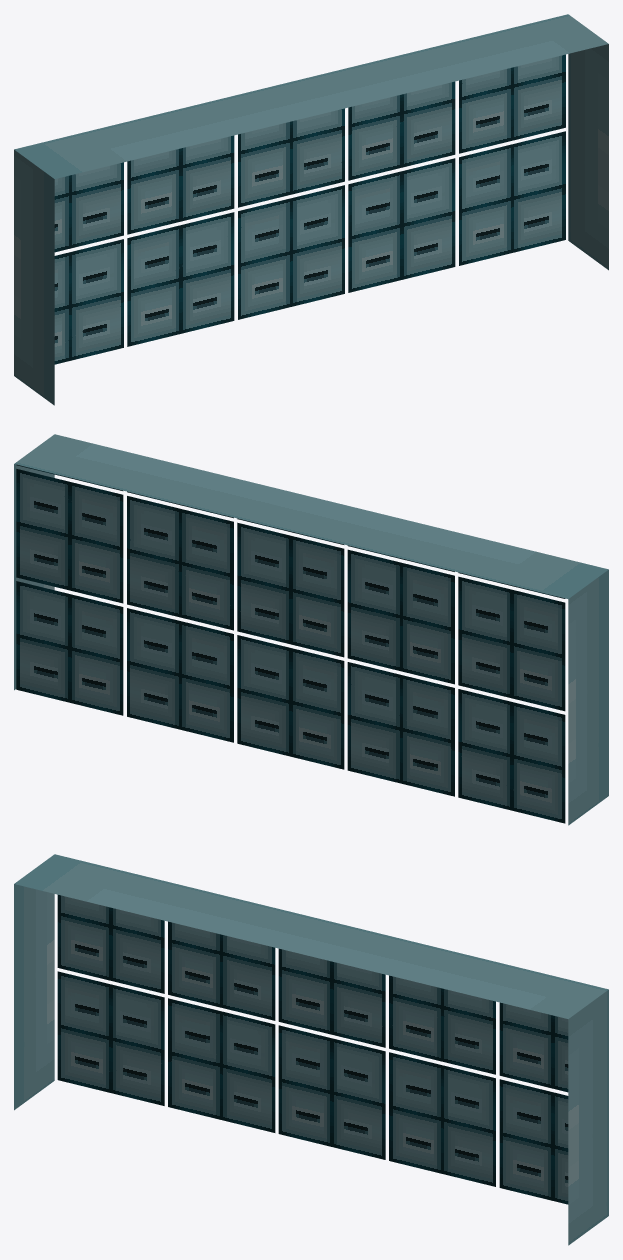
Rendered from BLOCKYGON_OFFICE DRAWER LARGE.fbx.
3 views of the same model, one above another, from view 1: azimuth 30°, elevation 25°; view 2: azimuth 150°, elevation 25°; view 3: azimuth 330°, elevation 25° (orthographic).
Parts seen in each view (by area): view 1: BLOCKYGON_OFFICE_DRAWER_LARGE; view 2: BLOCKYGON_OFFICE_DRAWER_LARGE; view 3: BLOCKYGON_OFFICE_DRAWER_LARGE.
Part boxes in pixels (x1,y1,x2,y2): BLOCKYGON_OFFICE_DRAWER_LARGE: (14,14,608,405); BLOCKYGON_OFFICE_DRAWER_LARGE: (14,434,608,825); BLOCKYGON_OFFICE_DRAWER_LARGE: (14,854,608,1245).
Size of the model in its own units: 502 by 196 by 63.82.
1 material, 1 textured.
